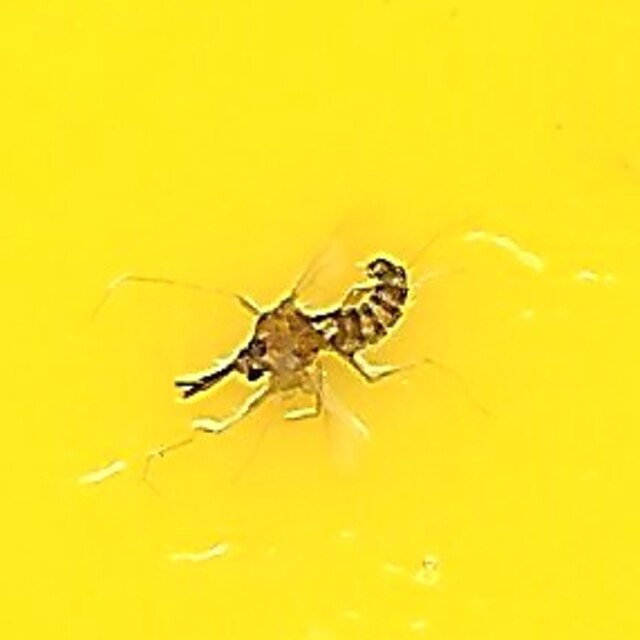Nematocera: (224, 244, 416, 396)
